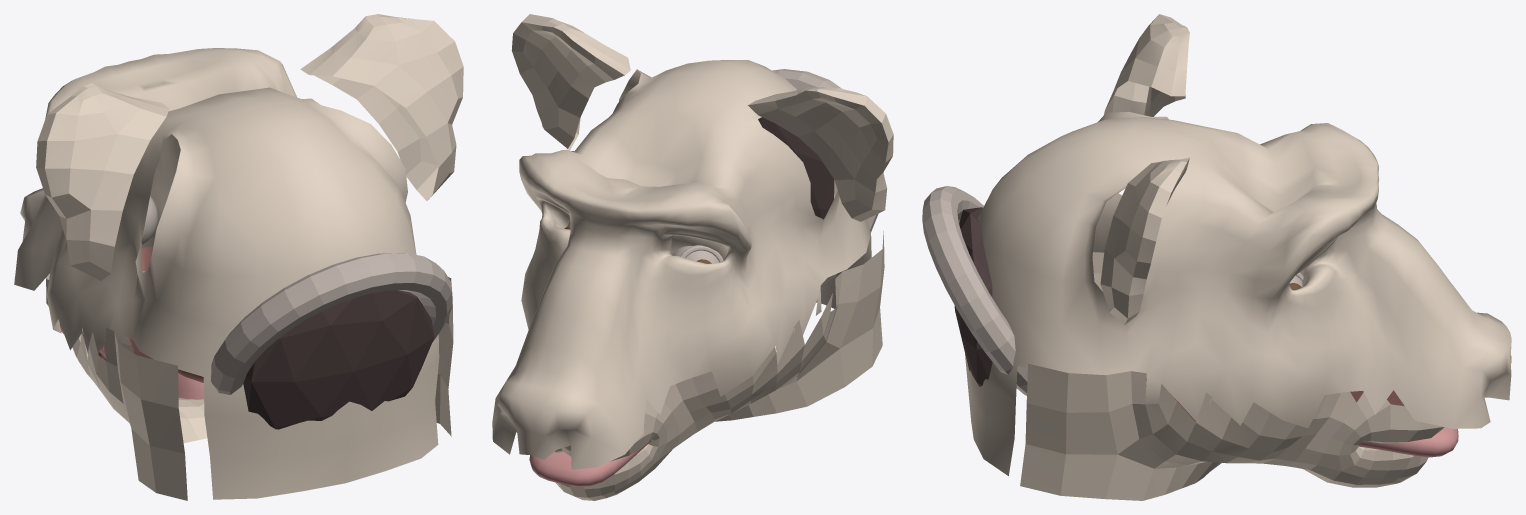
Rendered from sen_head_v3base.glb.
3 renders of one model, left to right at view 1: azimuth 30°, elevation 25°; view 2: azimuth 150°, elevation 25°; view 3: azimuth 270°, elevation 25°, orthographic. The views are drawn at different scales.
Parts seen in each view (by area): view 1: TissueHead, NeckSocketDisc, Ear_L, Ear_R, Jaw, NeckSocket, Tongue, TeethArcade; view 2: TissueHead, Jaw, Ear_R, Ear_L, NeckSocketDisc, Tongue, NeckSocket; view 3: TissueHead, Jaw, NeckSocket, Ear_L, Ear_R, NeckSocketDisc, Tongue.
Boxes of the visible parts, x1,y1,x2,y2 form: TissueHead: [14, 48, 439, 499]; NeckSocketDisc: [243, 290, 434, 429]; Ear_L: [300, 14, 463, 200]; Ear_R: [36, 83, 169, 280]; Jaw: [46, 271, 453, 500]; NeckSocket: [210, 253, 452, 394]; Tongue: [59, 323, 203, 399]; TeethArcade: [98, 246, 203, 382]; TissueHead: [492, 60, 871, 469]; Jaw: [554, 231, 884, 500]; Ear_R: [748, 87, 893, 221]; Ear_L: [511, 14, 630, 150]; NeckSocketDisc: [758, 117, 834, 219]; Tongue: [529, 440, 651, 487]; NeckSocket: [772, 69, 883, 285]; TissueHead: [965, 112, 1511, 475]; Jaw: [1020, 252, 1444, 500]; NeckSocket: [922, 186, 1027, 395]; Ear_L: [1100, 157, 1189, 325]; Ear_R: [1104, 14, 1189, 116]; NeckSocketDisc: [954, 207, 992, 386]; Tongue: [1358, 427, 1458, 457].
Bounding box in the file's own units: 0.8606 × 0.8077 × 1.11.
